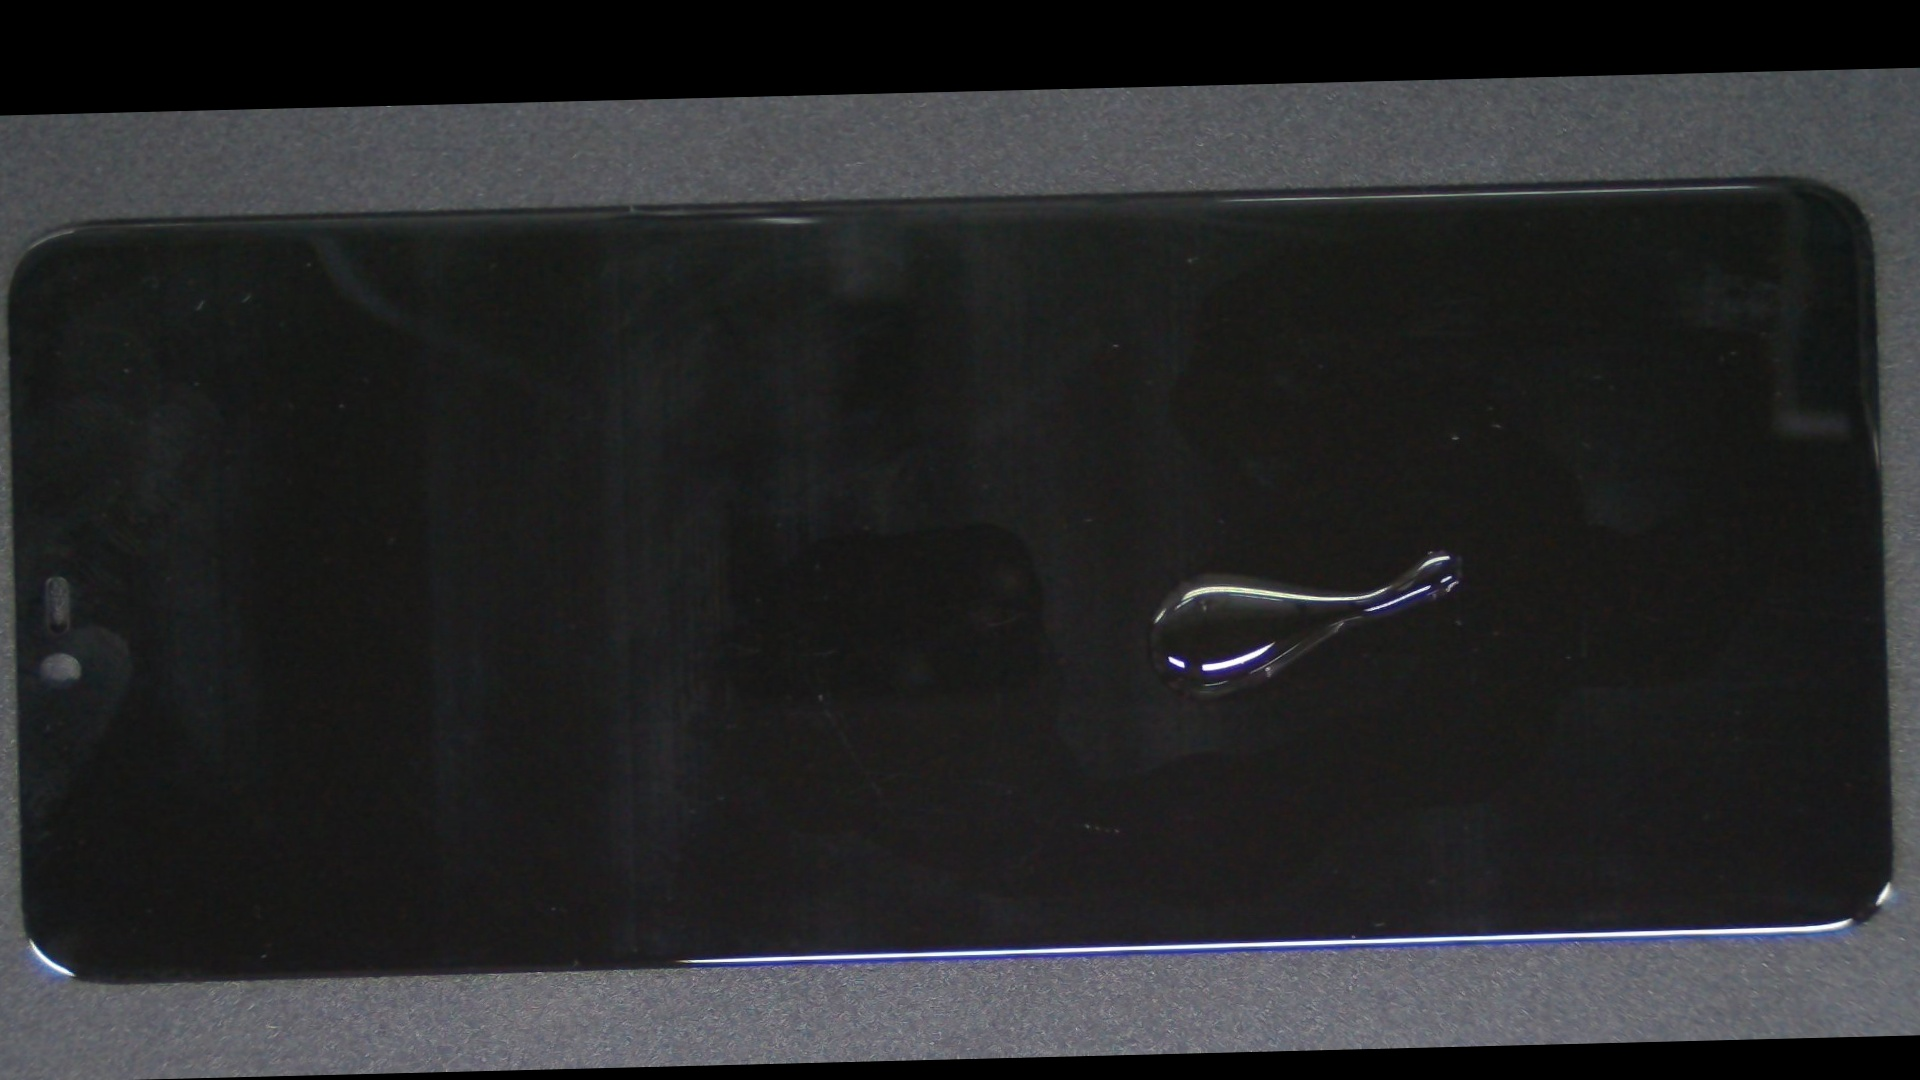oil: (682, 302, 1920, 803)
